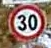limite 30: (6, 4, 46, 40)
